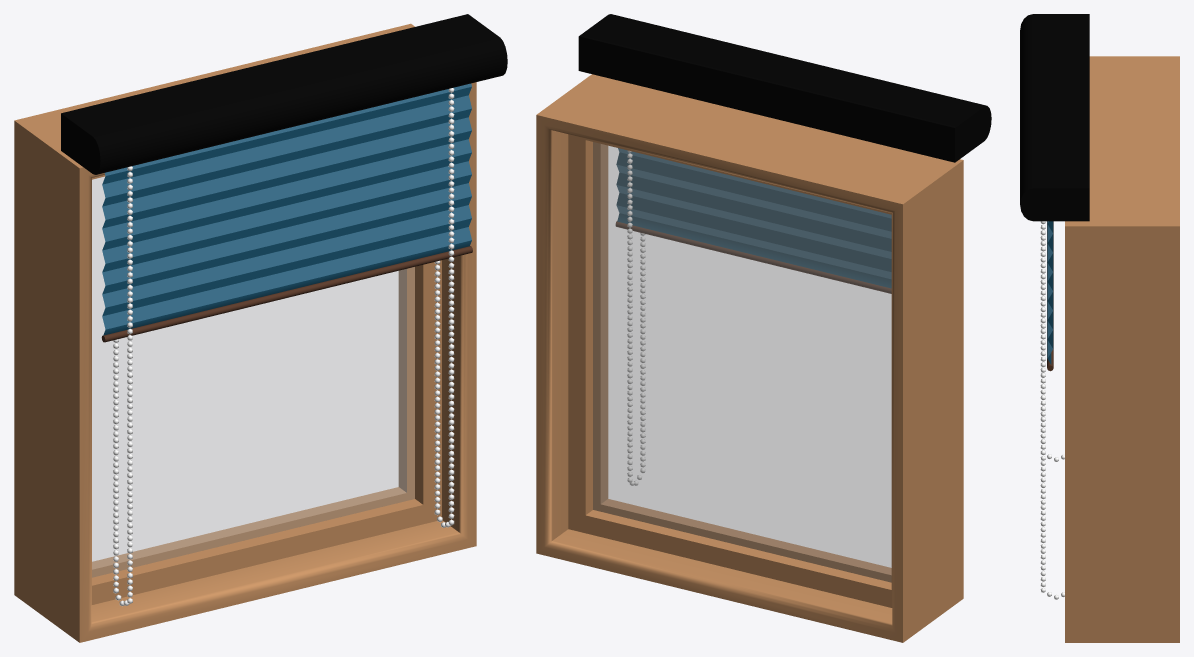
The picture shows the model from 3 angles, left to right: view 1: azimuth 30°, elevation 25°; view 2: azimuth 150°, elevation 25°; view 3: azimuth 270°, elevation 25°; orthographic projection. The views are drawn at different scales.
Parts seen in each view (by area): view 1: Window.004; view 2: Window.004; view 3: Window.004.
Boxes of the visible parts, x1,y1,x2,y2 form: Window.004: (14,14,507,642); Window.004: (536,14,991,642); Window.004: (1020,14,1179,642).
Size of the model in its own units: 1.44 by 1.75 by 0.5563.
Materials: 2 (1 with a texture image).
